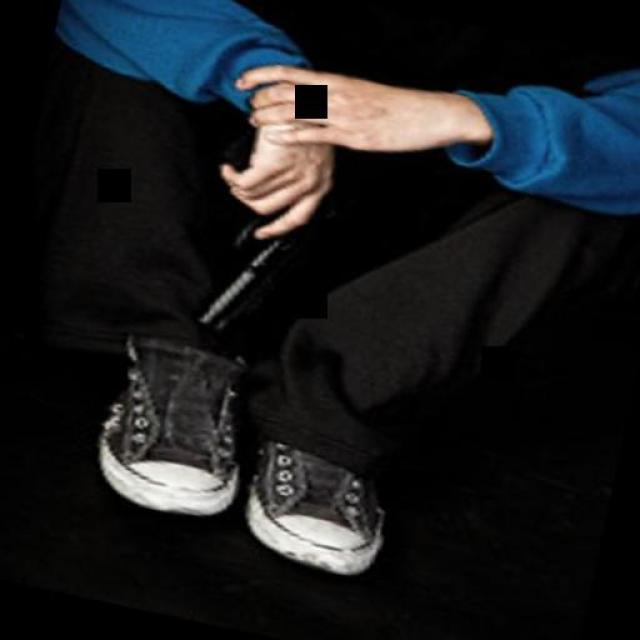gun: (171, 114, 344, 348)
